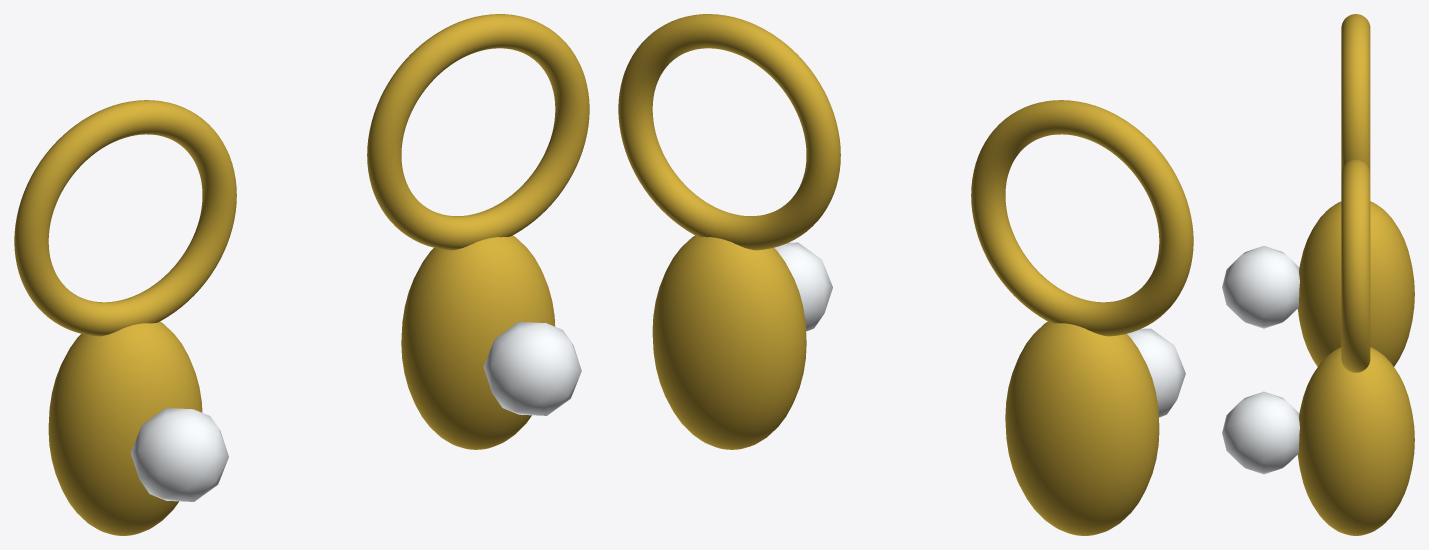
File: lotus-gold-jhumkas.glb
3 renders of one model, left to right at view 1: azimuth 30°, elevation 25°; view 2: azimuth 150°, elevation 25°; view 3: azimuth 270°, elevation 25°, orthographic. The views are drawn at different scales.
Parts seen in each view (by area): view 1: drop_body (×2), earring_top (×2), drop_gem (×2); view 2: drop_body (×2), earring_top (×2), drop_gem (×2); view 3: drop_body (×2), earring_top (×2), drop_gem (×2).
Part boxes in pixels (x1,y1,x2,y2): drop_body (×2): (48,235,555,535); earring_top (×2): (14,14,589,336); drop_gem (×2): (130,322,581,501); drop_body (×2): (652,235,1159,535); earring_top (×2): (618,14,1193,336); drop_gem (×2): (774,242,1185,417); drop_body (×2): (1297,201,1414,535); earring_top (×2): (1341,14,1370,372); drop_gem (×2): (1222,246,1299,474).
Bounding box in the file's own units: 1.46 × 1.04 × 0.5032.
